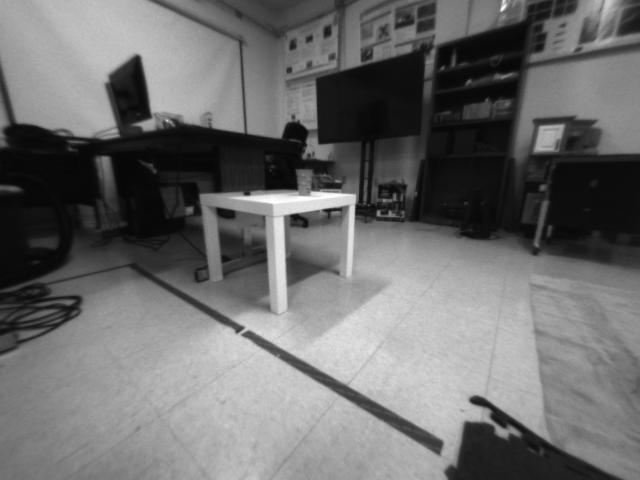coffee_cup: (292, 166, 316, 197)
